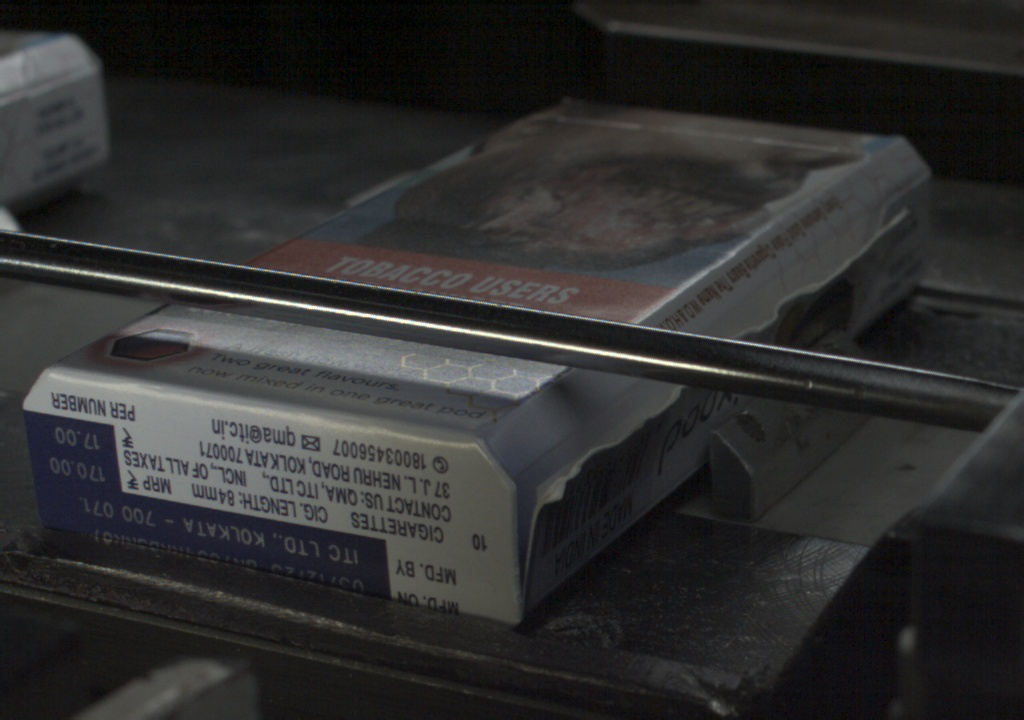g_bottom: (21, 370, 518, 636)
g_label: (24, 494, 390, 595)
g_miter: (883, 166, 927, 203)
ng_lmiter: (517, 433, 597, 580), (724, 273, 807, 333), (810, 220, 879, 285), (604, 385, 672, 441)
price: (27, 420, 118, 493)
